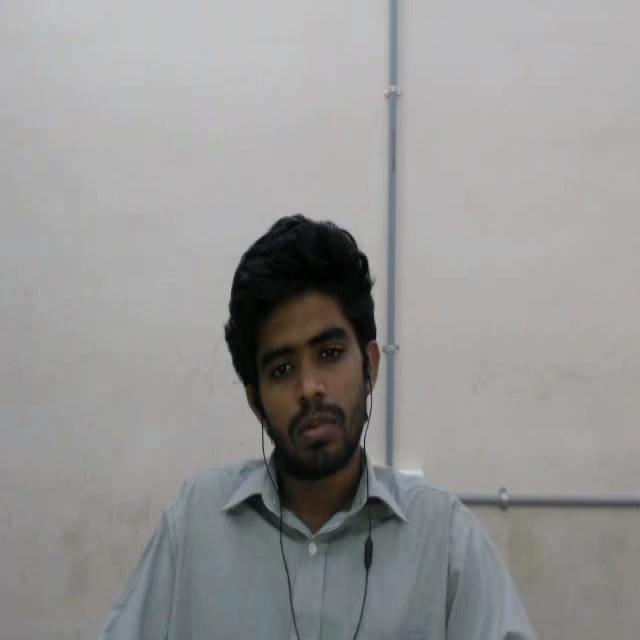Engaged: (192, 187, 438, 510)
